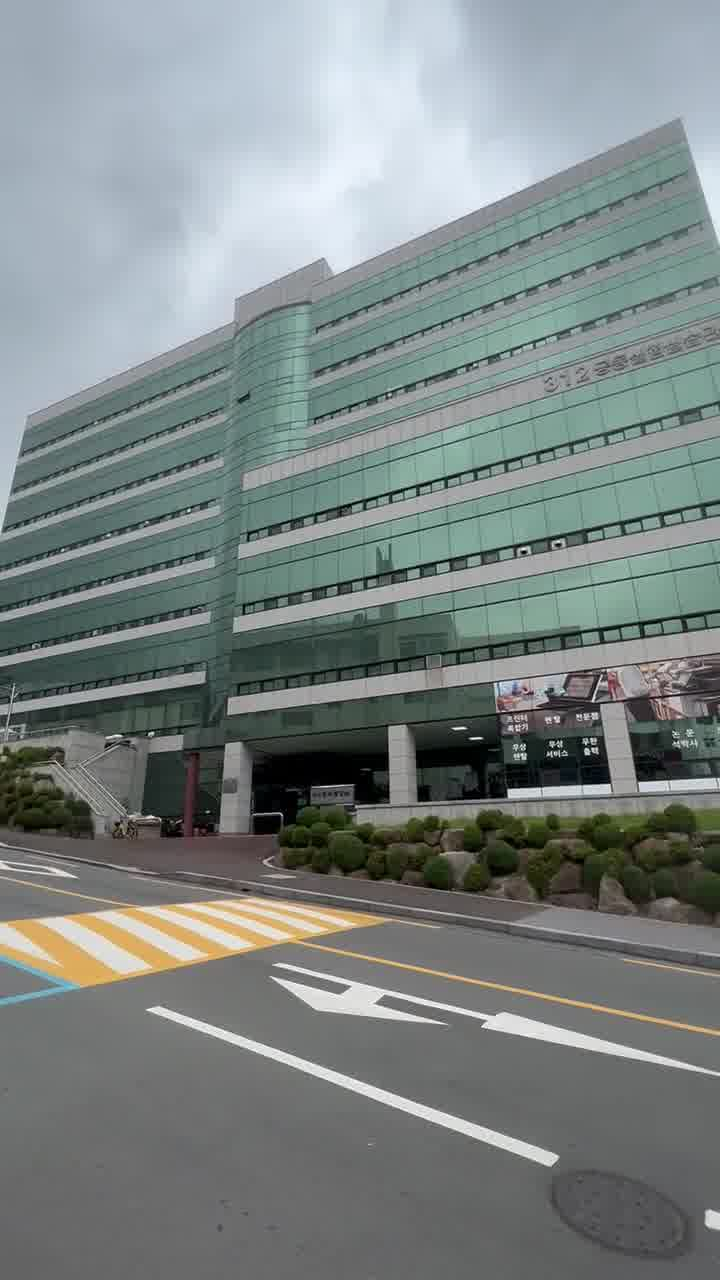low: (54, 194, 720, 656)
